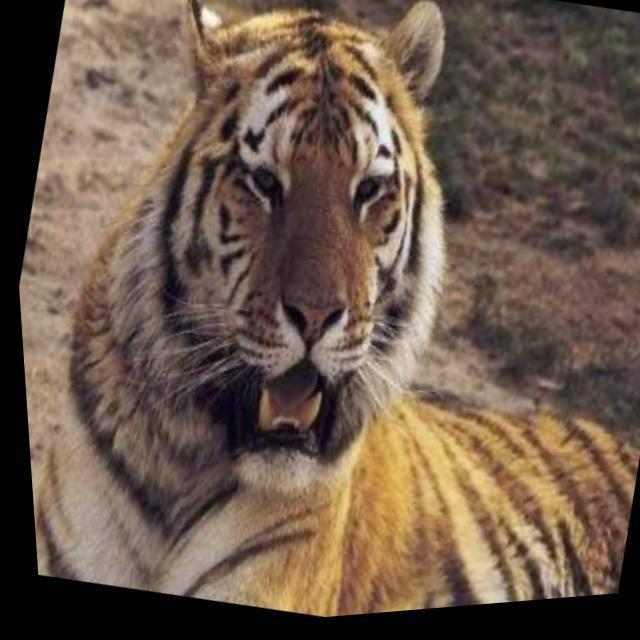tiger: (31, 0, 639, 615)
